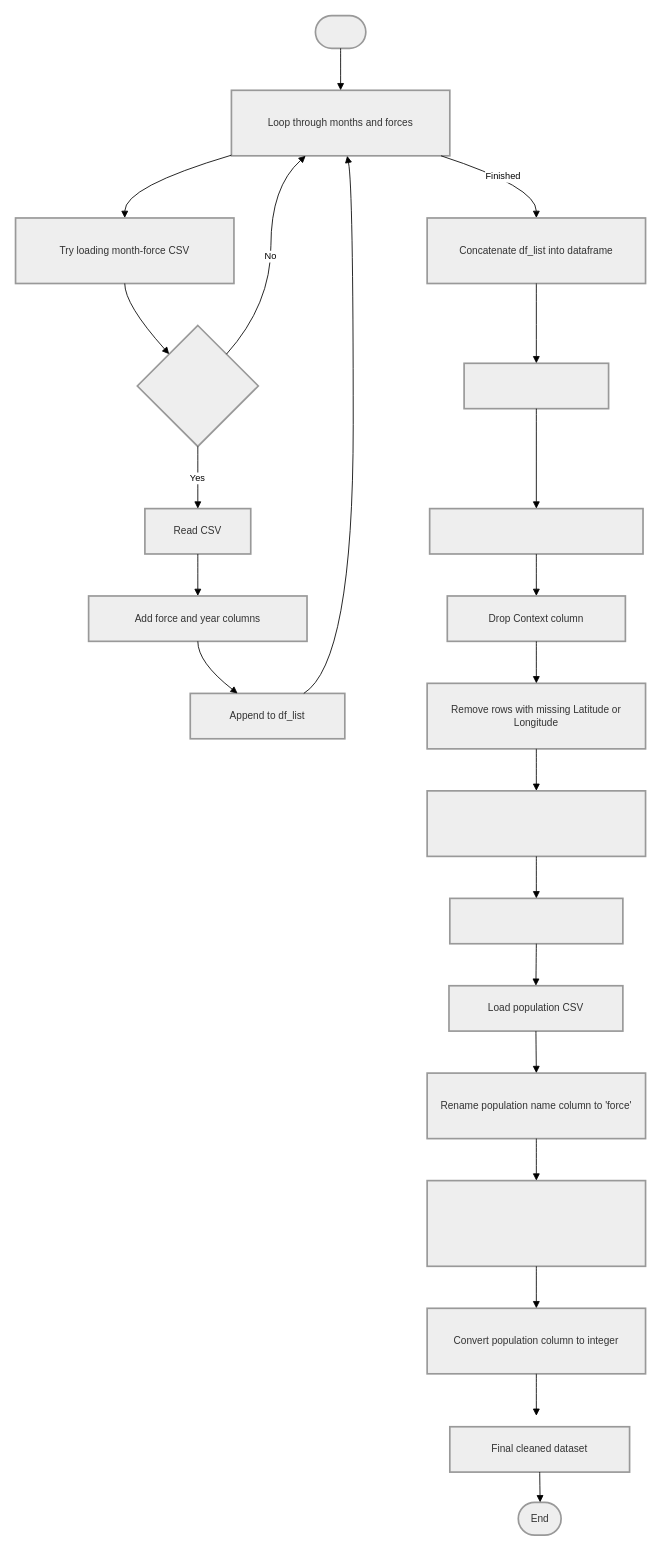
Image size: 660x1550. Some labels were removed from this diagram. The shapes that lost their labels are listed below. From the top down, each one's centre as x and y in pixels, then its label:
At [340,31]: "Start".
At [197,385]: "If file exists?".
At [536,385]: "Drop duplicates".
At [535,530]: "Convert Month to datetime".
At [536,823]: "Fill missing Last outcome category with 'Outcome not recorded yet'".
At [536,920]: "Fill missing Crime ID with 'No crime ID'".
At [536,1223]: "Clean population names: lowercase, remove spaces/dashes".
